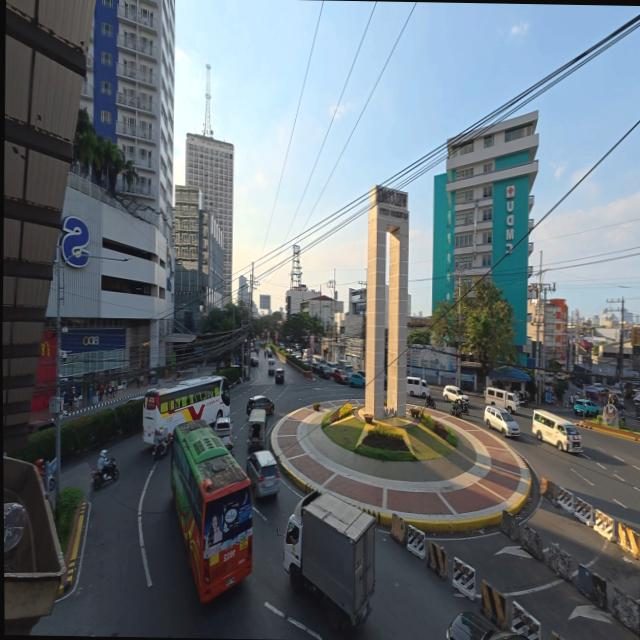Jeepneys: (246, 409, 265, 452)
bus: (170, 421, 251, 602), (142, 376, 229, 444)
car: (446, 612, 528, 639), (246, 450, 279, 497), (484, 406, 519, 437), (214, 417, 232, 453), (246, 395, 273, 414), (572, 399, 598, 417), (442, 386, 468, 403), (27, 420, 54, 434), (607, 392, 623, 409), (347, 373, 365, 387), (332, 369, 348, 384), (317, 364, 331, 379), (274, 368, 284, 383), (591, 383, 604, 393), (311, 360, 318, 373), (327, 363, 337, 371), (250, 357, 258, 366), (266, 348, 273, 358), (357, 370, 365, 378), (279, 343, 284, 350)
motorcycle: (91, 458, 118, 490), (152, 434, 170, 462), (35, 460, 45, 484), (449, 402, 462, 418), (456, 398, 468, 415), (424, 392, 435, 408)
trucks: (283, 492, 374, 631)
vans: (532, 410, 581, 452), (484, 387, 518, 413), (406, 377, 427, 397)
